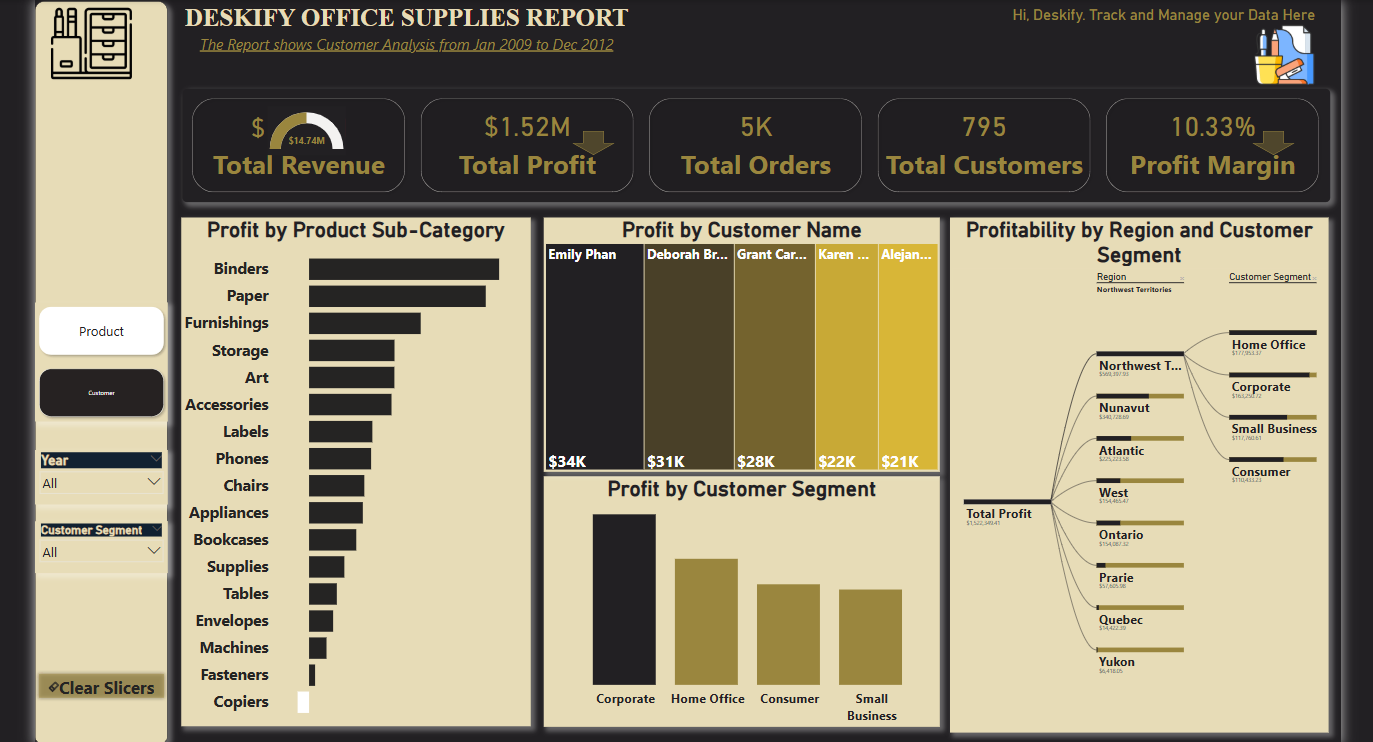

What the dashboard file says about the page in this screenshot:
{"tool":"powerbi","page":{"name":"Customer ","canvas":[2800,1600],"ordinal":1},"visuals":[{"type":"cardVisual","fields":{"Data":["Calculated Measures.Total Revenue","Calculated Measures.Total Profit","Calculated Measures.Total Orders","Calculated Measures.Total Customers","Calculated Measures.Profit Margin"]},"box":[315.2,189.1,2461.4,243.1],"z":0},{"type":"textbox","box":[0,2.7,284.2,1597.9],"z":1000},{"type":"pageNavigator","box":[0,648.4,285.2,255.1],"z":2000},{"type":"gauge","fields":{"Y":["Calculated Measures.Total Revenue"]},"box":[498.3,228.1,168.1,105.1],"z":3000},{"type":"slicer","fields":{"Values":["Customer Dim.Customer Segment"]},"box":[0,1118.7,285.1,111.3],"z":4000},{"type":"slicer","fields":{"Values":["CalenderDim.Year"]},"box":[0,963.9,285.1,116.8],"z":5000},{"type":"shape","box":[1152.7,282.2,90.1,51],"z":6000},{"type":"shape","box":[2611.5,282.2,90.1,51],"z":7000},{"type":"image","box":[30,0,183.1,186.1],"z":8000},{"type":"textbox","box":[315.2,3,972.6,90.1],"z":9000},{"type":"textbox","box":[347.6,67.9,917.8,95],"z":10000},{"type":"actionButton","box":[0,1436.4,285.1,67.9],"z":11000},{"type":"actionButton","title":"Hi, Deskify. Track and Manage your Data Here","box":[2096.2,13.6,678.8,54.3],"z":12000},{"type":"image","box":[2560.5,24.4,238.9,187.4],"z":13000},{"type":"clusteredBarChart","title":"Profit by Product Sub-Category","fields":{"Y":["Calculated Measures.Total Profit"],"Category":["Product Dim.Product Sub-Category"]},"box":[315,467,749.4,1091.6],"z":14000},{"type":"clusteredColumnChart","title":"Profit by Customer Segment","fields":{"Y":["Calculated Measures.Total Profit"],"Category":["Customer Dim.Customer Segment"]},"box":[1091.6,1021,849.9,537.6],"z":15000},{"type":"treemap","title":"Profit by Customer Name","fields":{"Values":["Calculated Measures.Total Profit"],"Group":["Customer Dim.Customer Name"]},"box":[1091.6,467,849.9,545.8],"z":16000},{"type":"decompositionTreeVisual","title":"Profitability by Region and Customer Segment","fields":{"Analyze":["Calculated Measures.Total Profit"],"ExplainBy":["Location Dim.Region","Customer Dim.Customer Segment"]},"box":[1963.2,467,811.9,1105.1],"z":17000}]}

Visuals, with their boxes on the page's 2800x1600 design canvas (x1, y1, x2, y2). These are canvas units, not pixel positions in the 1373x742 screenshot, which may show the page scaled, cropped or inside an application window:
cardVisual - Calculated Measures.Total Revenue x Calculated Measures.Total Profit: [left=315, top=189, right=2777, bottom=432]
textbox: [left=0, top=3, right=284, bottom=1601]
pageNavigator: [left=0, top=648, right=285, bottom=904]
gauge - Calculated Measures.Total Revenue: [left=498, top=228, right=666, bottom=333]
slicer - Customer Dim.Customer Segment: [left=0, top=1119, right=285, bottom=1230]
slicer - CalenderDim.Year: [left=0, top=964, right=285, bottom=1081]
shape: [left=1153, top=282, right=1243, bottom=333]
shape: [left=2612, top=282, right=2702, bottom=333]
image: [left=30, top=0, right=213, bottom=186]
textbox: [left=315, top=3, right=1288, bottom=93]
textbox: [left=348, top=68, right=1265, bottom=163]
actionButton: [left=0, top=1436, right=285, bottom=1504]
"Hi, Deskify. Track and Manage your Data Here" actionButton: [left=2096, top=14, right=2775, bottom=68]
image: [left=2560, top=24, right=2799, bottom=212]
"Profit by Product Sub-Category" clusteredBarChart: [left=315, top=467, right=1064, bottom=1559]
"Profit by Customer Segment" clusteredColumnChart: [left=1092, top=1021, right=1942, bottom=1559]
"Profit by Customer Name" treemap: [left=1092, top=467, right=1942, bottom=1013]
"Profitability by Region and Customer Segment" decompositionTreeVisual: [left=1963, top=467, right=2775, bottom=1572]
